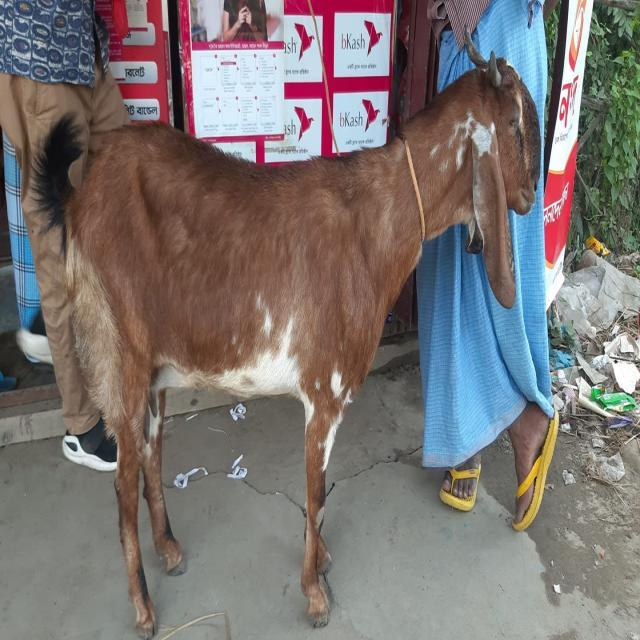Goat: (26, 27, 542, 635)
